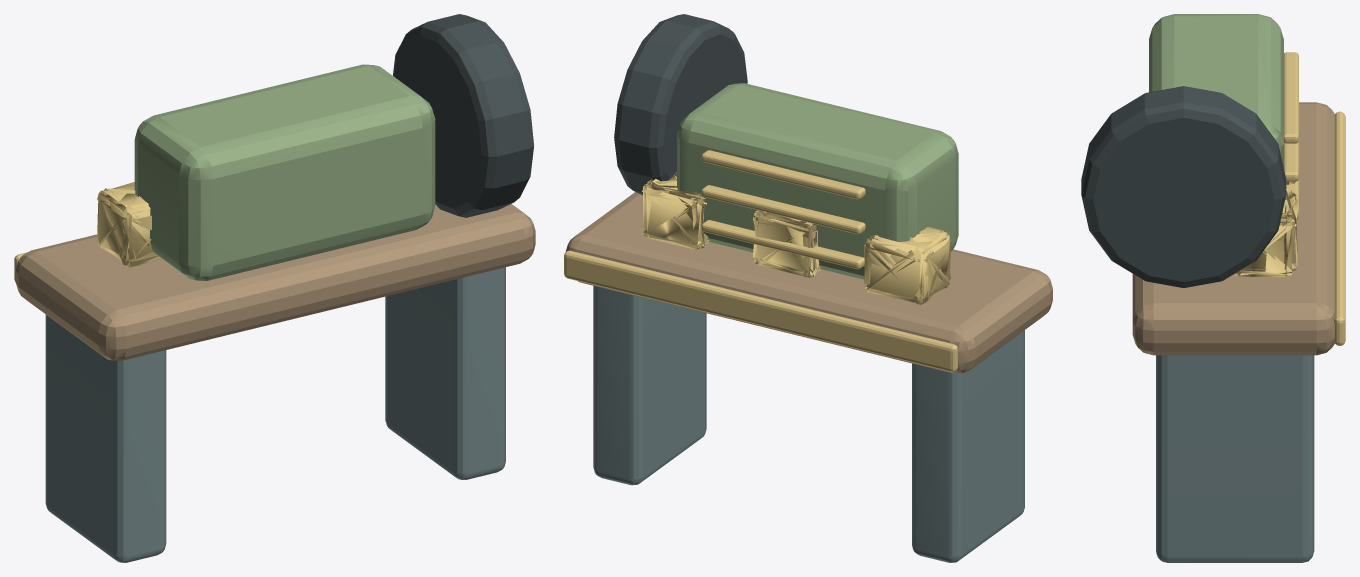
The model's file is station_rover.glb.
3 renders of one model, left to right at view 1: azimuth 30°, elevation 25°; view 2: azimuth 150°, elevation 25°; view 3: azimuth 270°, elevation 25°, orthographic. The views are drawn at different scales.
Visible parts, largest first — view 1: Surface_WorldOlive, Surface_WorldMetal, Surface_WorldWood, Surface_Rubber, SupplyToken0; view 2: Surface_WorldMetal, Surface_WorldOlive, Surface_WorldWood, Surface_WorldBrass, Surface_Rubber, SupplyToken0, SupplyToken2, SupplyToken1; view 3: Surface_WorldMetal, Surface_Rubber, Surface_WorldWood, Surface_WorldOlive, Surface_WorldBrass, SupplyToken2.
Part boxes in pixels (x1,y1,x2,y2): Surface_WorldOlive: [134, 64, 435, 280]; Surface_WorldMetal: [45, 267, 505, 562]; Surface_WorldWood: [15, 204, 535, 360]; Surface_Rubber: [393, 14, 533, 217]; SupplyToken0: [97, 182, 161, 267]; Surface_WorldMetal: [593, 285, 1024, 562]; Surface_WorldOlive: [677, 83, 958, 279]; Surface_WorldWood: [565, 192, 1052, 373]; Surface_WorldBrass: [564, 150, 958, 372]; Surface_Rubber: [614, 14, 747, 195]; SupplyToken0: [864, 227, 950, 304]; SupplyToken2: [642, 172, 709, 250]; SupplyToken1: [753, 210, 820, 277]; Surface_WorldMetal: [1156, 355, 1314, 562]; Surface_Rubber: [1081, 86, 1286, 287]; Surface_WorldWood: [1132, 102, 1335, 355]; Surface_WorldOlive: [1149, 14, 1283, 167]; Surface_WorldBrass: [1284, 52, 1345, 345]; SupplyToken2: [1234, 189, 1297, 276].
Size of the model in its own units: 1.1 by 1.08 by 0.5675.
